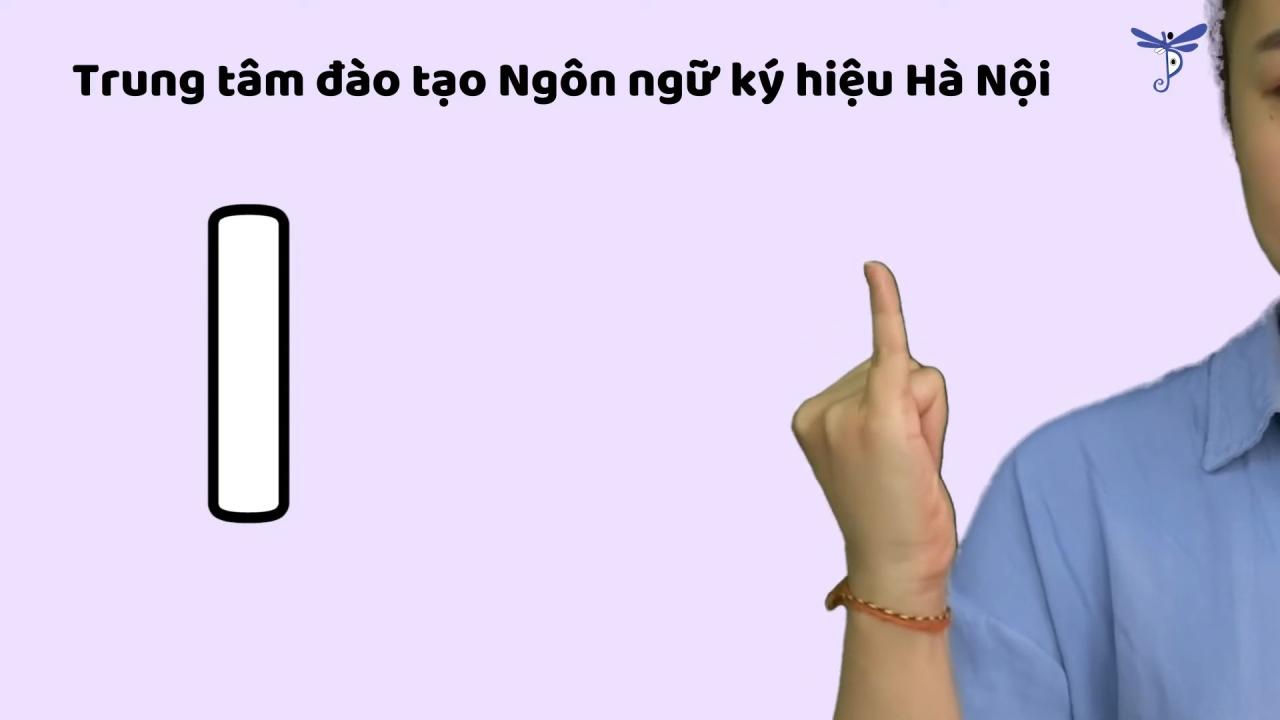I: (789, 242, 990, 618)
